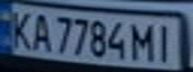4: (106, 19, 130, 61)
7: (51, 12, 72, 54), (69, 15, 90, 56)
8: (87, 17, 109, 59)
A: (27, 10, 54, 52)
I: (151, 20, 178, 63)
K: (3, 7, 36, 51)
M: (127, 19, 160, 62)
